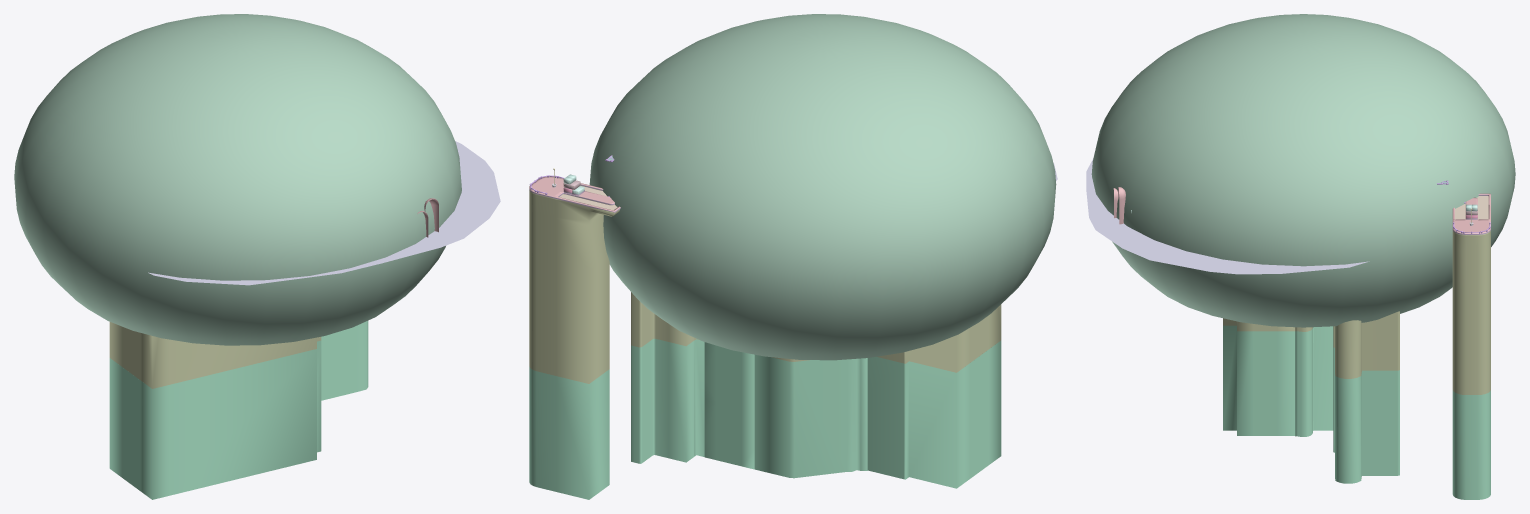
The model's file is map_all.fbx.
3 views of the same model, side by side, from view 1: azimuth 30°, elevation 25°; view 2: azimuth 150°, elevation 25°; view 3: azimuth 270°, elevation 25° (orthographic). The views are drawn at different scales.
Visible parts, largest first — view 1: background_sky, ground_2, background_1, ground_4; view 2: background_sky, ground_5, ground_4, ground_2, blends_3; view 3: background_sky, ground_5, ground_4, ground_2, background_1.
Boxes of the visible parts, x1,y1,x2,y2 form: background_sky: (14, 14, 461, 345); ground_2: (109, 322, 321, 499); background_1: (148, 141, 500, 285); ground_4: (321, 321, 368, 400); background_sky: (589, 14, 1056, 360); ground_5: (529, 177, 694, 499); ground_4: (694, 337, 867, 478); ground_2: (867, 304, 1001, 488); blends_3: (529, 176, 620, 212); background_sky: (1091, 14, 1515, 327); ground_5: (1362, 198, 1490, 499); ground_4: (1295, 320, 1361, 483); ground_2: (1223, 318, 1295, 435); background_1: (1086, 159, 1369, 274).
Size of the model in its own units: 1235816 by 1149561 by 1198813.
